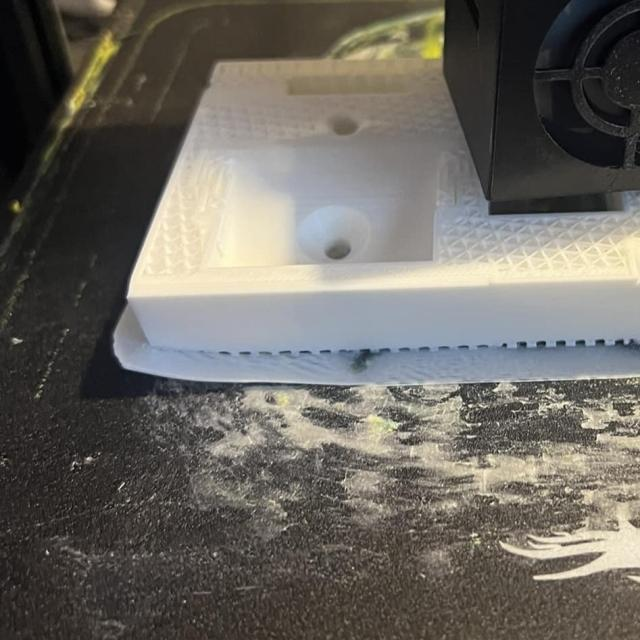warping: (104, 313, 337, 398)
